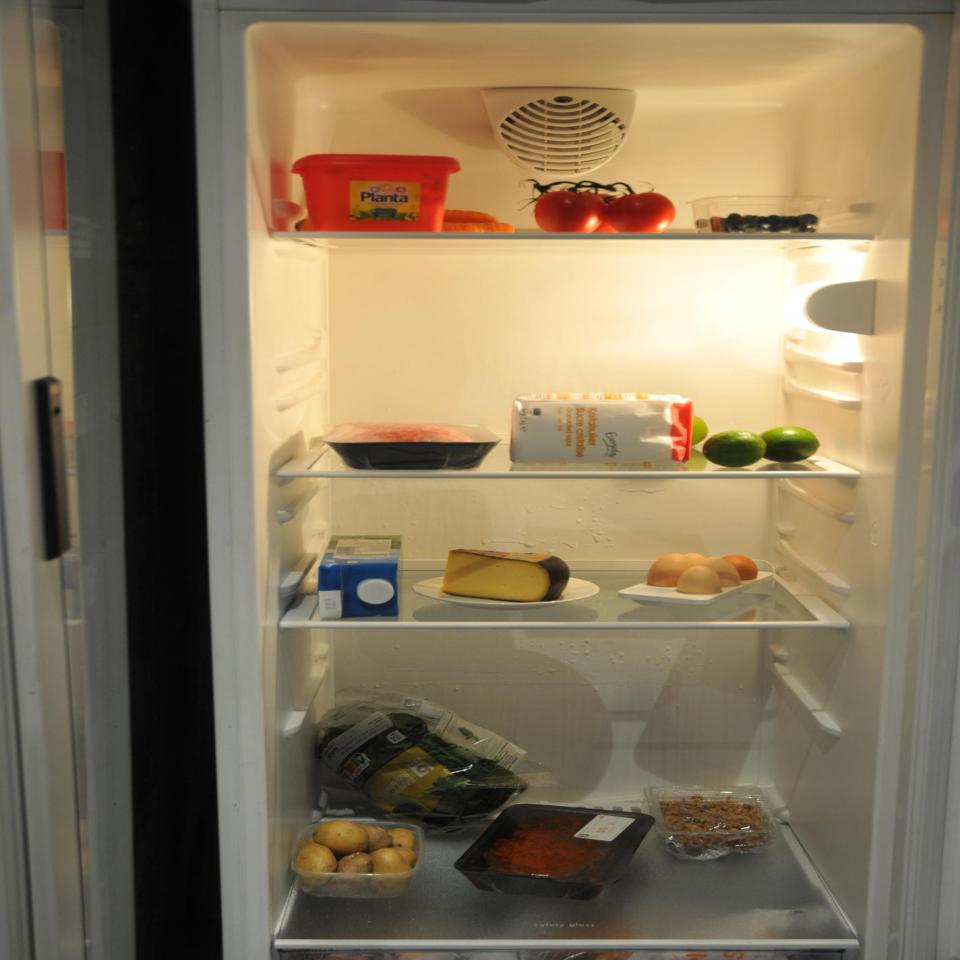Huevos: (643, 548, 765, 602)
Leche: (316, 533, 408, 622)
Mantequilla: (285, 147, 462, 235)
Queso: (436, 545, 574, 604)
Tomate: (518, 168, 680, 235)
Zanahoria: (288, 206, 520, 234)
